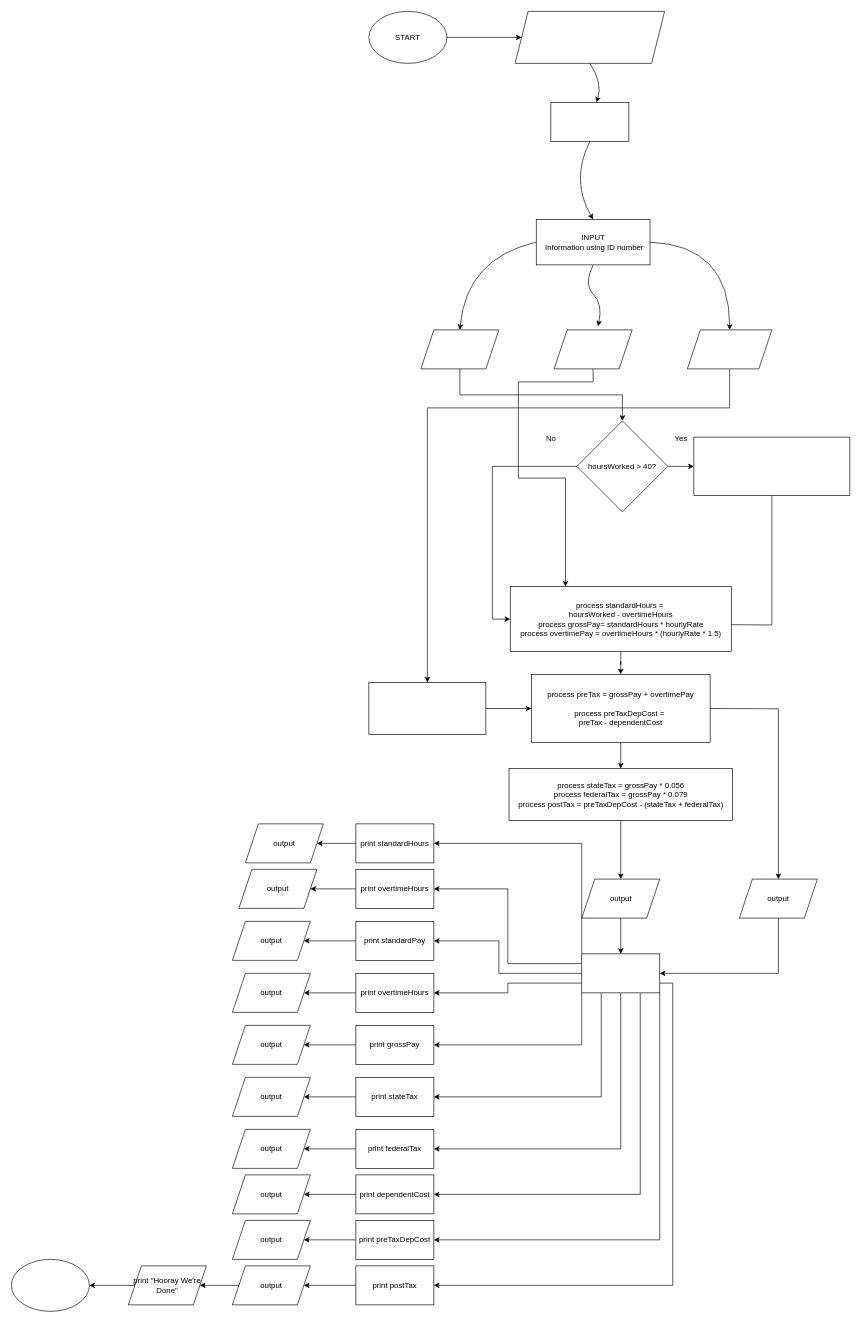
This 861x1323 diagram has some shape labels left out. The centre of each missing label's shape, as x and y in pixels:
"Carl's Data Base" belongs at point (589, 121).
"dependentCost= dependents * 25" belongs at point (427, 708).
"END" belongs at point (50, 1285).
"FORMAT" belongs at point (620, 973).
"INPUT ID request" belongs at point (589, 37).
"OUTPUT Hourly Wage" belongs at point (592, 349).
"OUTPUT Hours worked" belongs at point (459, 349).
"OUTPUT Number of Dependants" belongs at point (729, 349).
"process overtimeHours = hoursWorked - 40" belongs at point (771, 466).
